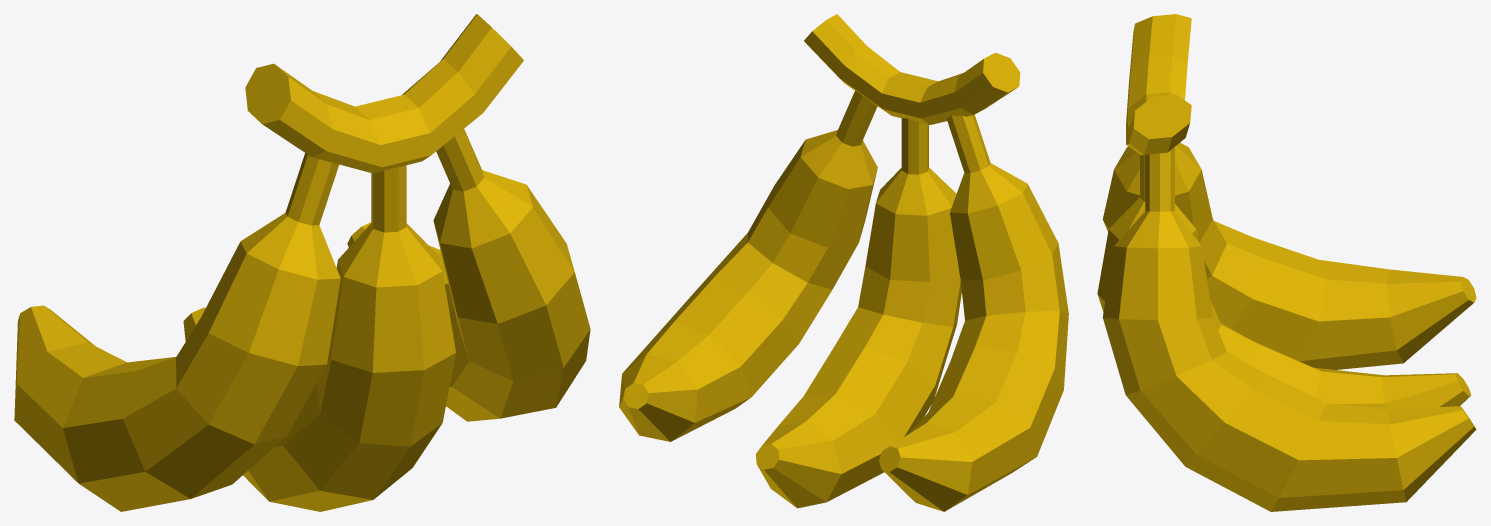
The model's file is banana.fbx.
The picture shows the model from 3 angles, left to right: view 1: azimuth 30°, elevation 25°; view 2: azimuth 150°, elevation 25°; view 3: azimuth 270°, elevation 25°; orthographic projection. The views are drawn at different scales.
Visible parts, largest first — view 1: BANANA; view 2: BANANA; view 3: BANANA.
Boxes of the visible parts, x1=… form: BANANA: x1=14, y1=14, x2=590, y2=511; BANANA: x1=619, y1=14, x2=1068, y2=511; BANANA: x1=1097, y1=14, x2=1476, y2=511.
Bounding box in the file's own units: 209 × 213 × 176.
